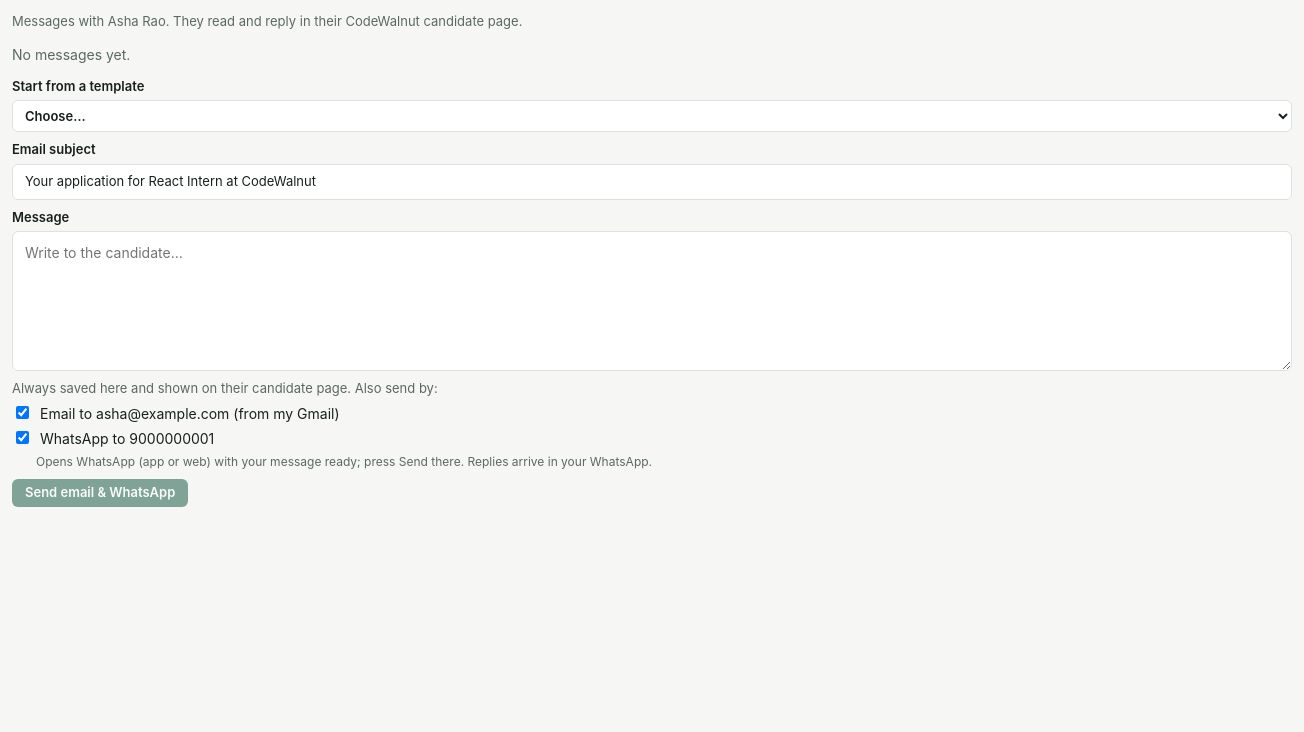
it: Conversation › opens WhatsApp with the message ready when there is no Business API
Click the checkbox labelled "Email to asha@example.com (from my Gmail)" at (22, 412), box x1=16 y1=406 x2=29 y2=418
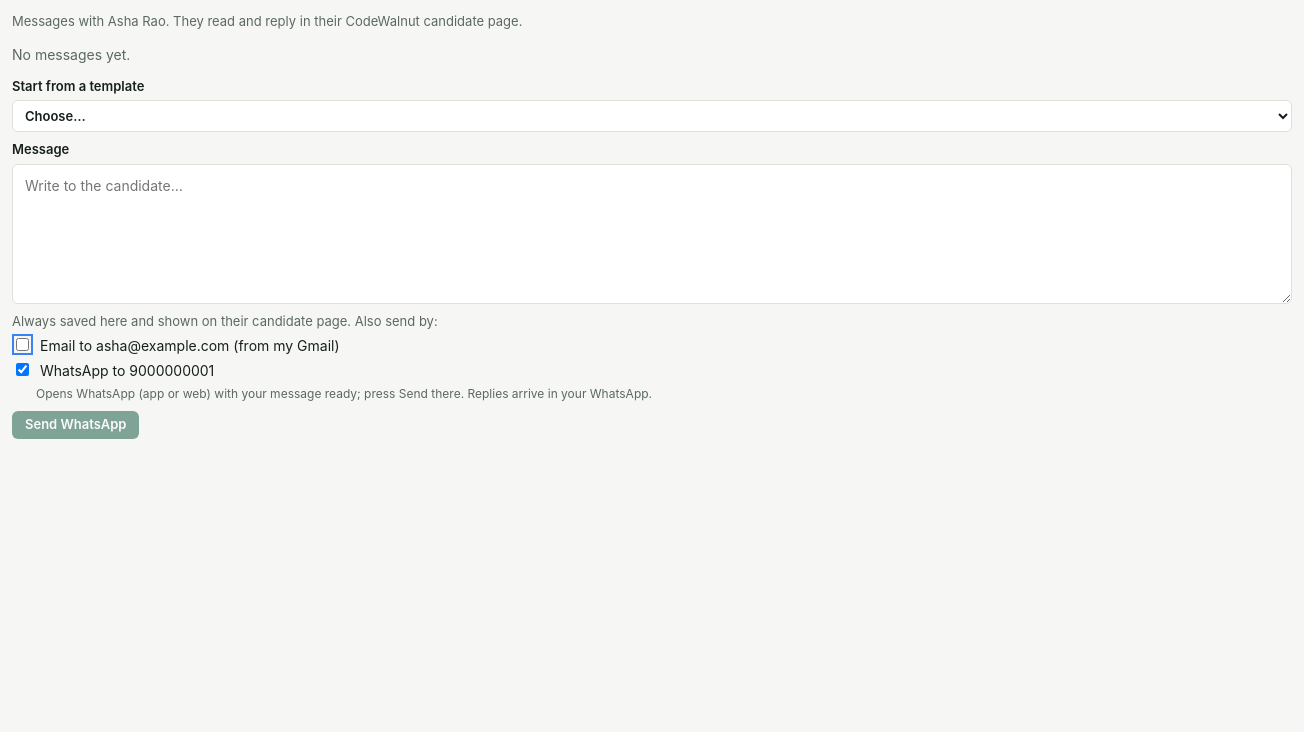
Expected: the checkbox labelled "WhatsApp to 9000000001" is checked, x1=16 y1=363 x2=29 y2=376
Expected: the text "press Send there" is shown, x1=36 y1=386 x2=652 y2=401
Type "Can you send your Aadhaar card?" into the text box labelled "Message" at (652, 234), box x1=12 y1=164 x2=1292 y2=304
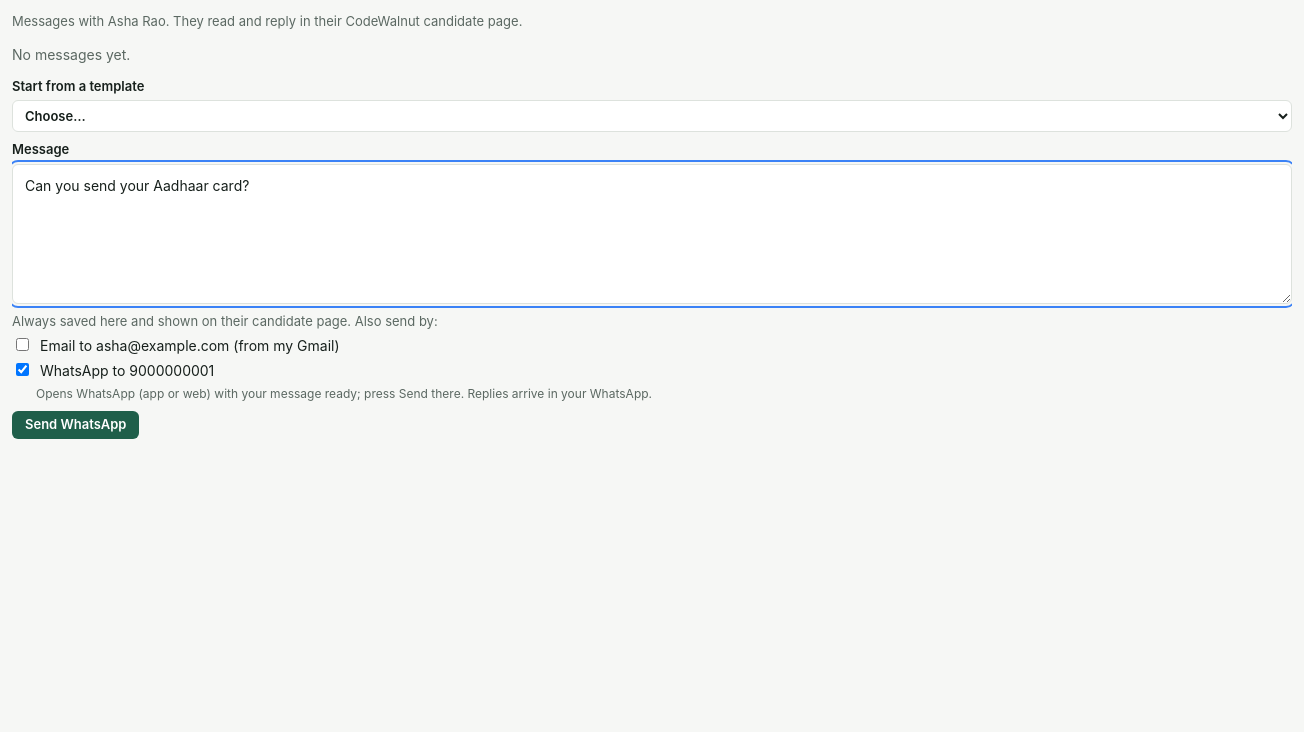
Click the button "Send WhatsApp" at (76, 425), box x1=12 y1=411 x2=140 y2=439
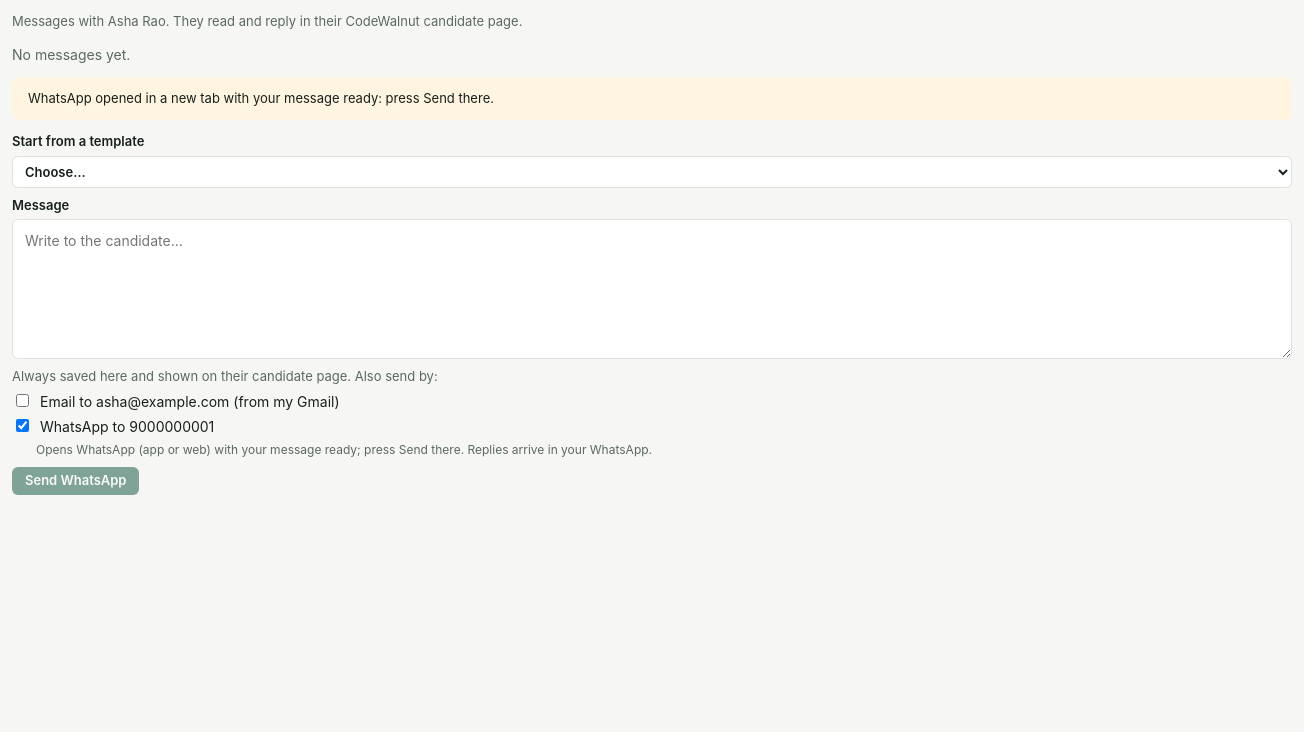
Result: the text "WhatsApp opened in a new tab" is shown at x1=28 y1=90 x2=494 y2=106
